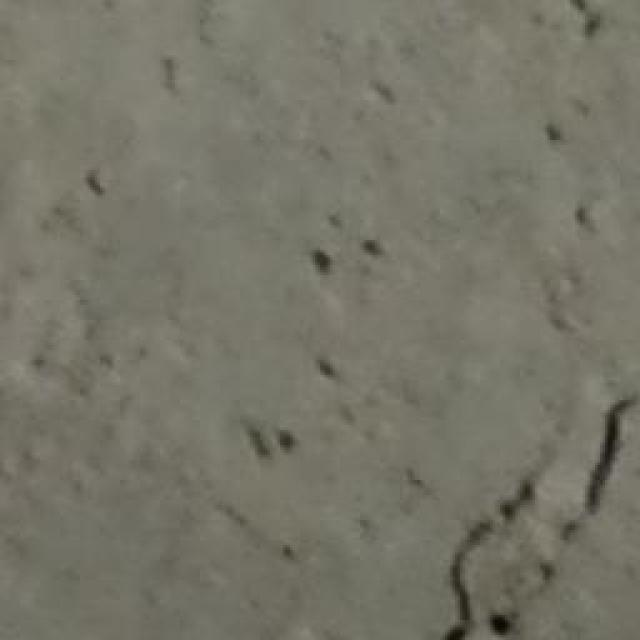Diagonal: (456, 383, 640, 640)
